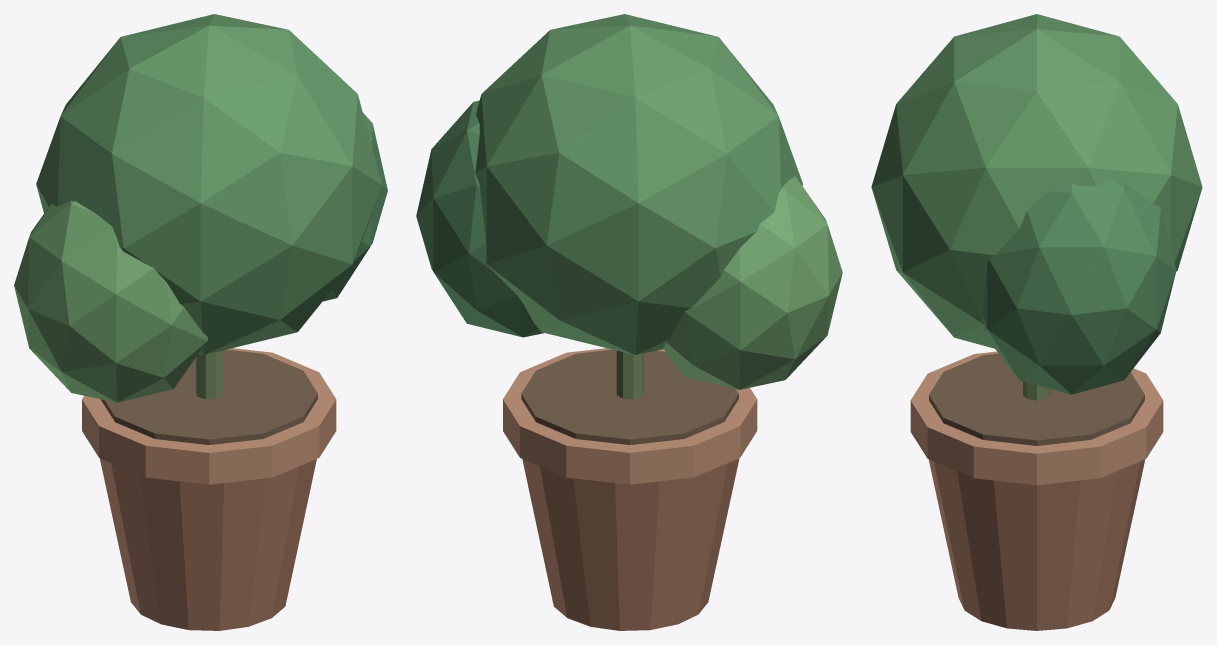
File: plant_pot.glb
3 views of the same model, side by side, from view 1: azimuth 30°, elevation 25°; view 2: azimuth 150°, elevation 25°; view 3: azimuth 270°, elevation 25° (orthographic).
Visible parts, largest first — view 1: geometry_0; view 2: geometry_0; view 3: geometry_0.
Part boxes in pixels (<box>): geometry_0: <box>14,14,387,630</box>; geometry_0: <box>416,14,842,630</box>; geometry_0: <box>871,14,1202,630</box>.
Size of the model in its own units: 0.49 by 0.72 by 0.38.
